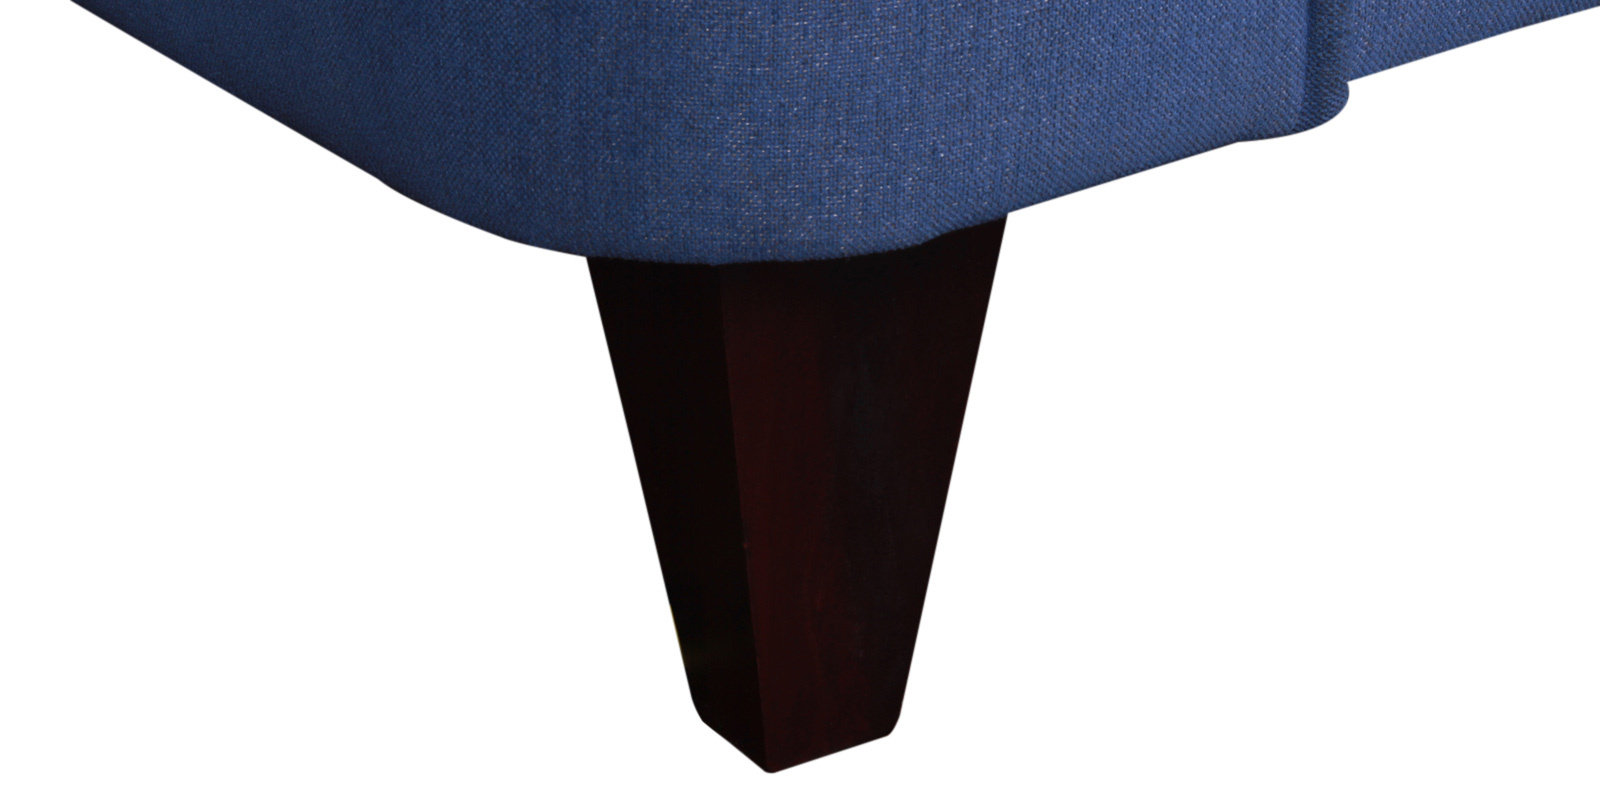Lara Three Seater Sofa in Denim Blue Colour by CasaCraft: (72, 1, 1600, 772)
